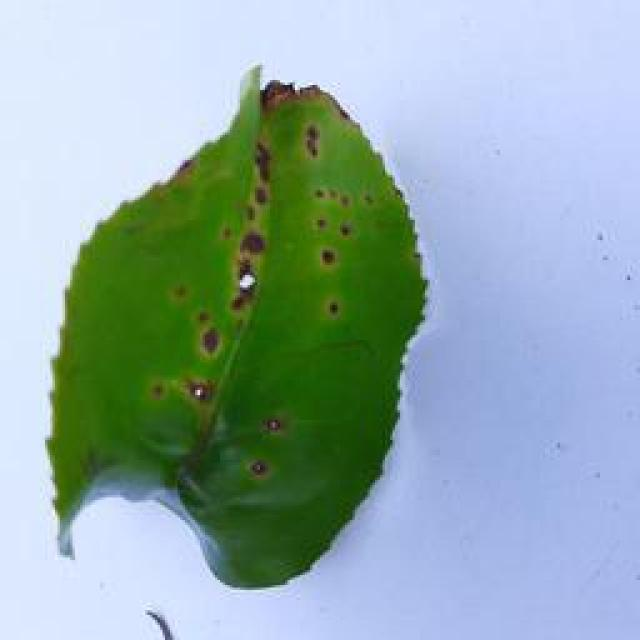Helopeltis: (59, 60, 426, 590)
